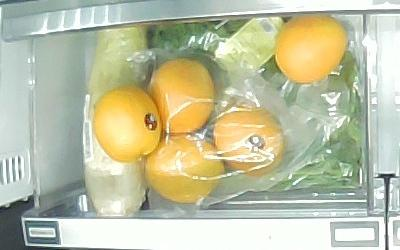orange: (93, 86, 162, 162), (275, 14, 348, 84)
orange_vinyl: (213, 104, 285, 178), (145, 135, 224, 202), (149, 59, 215, 134)
